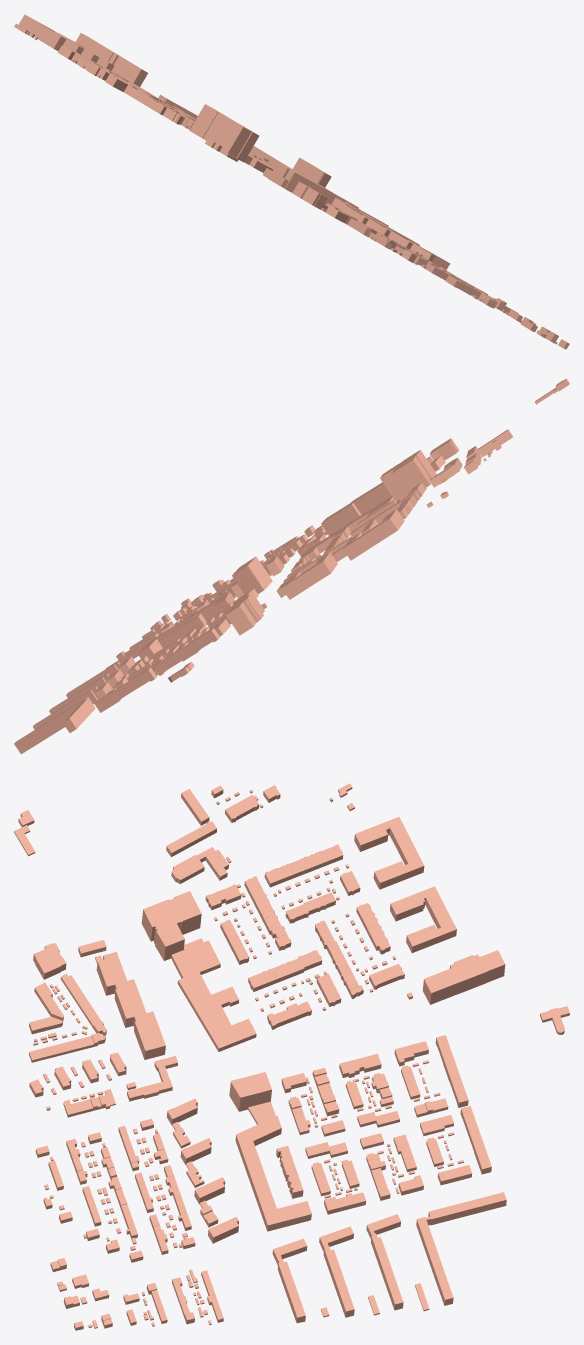
3 renders of one model, top to bottom at view 1: azimuth 30°, elevation 25°; view 2: azimuth 150°, elevation 25°; view 3: azimuth 270°, elevation 25°, orthographic. The views are drawn at different scales.
Bounding box in the file's own units: 508 × 383 × 563.
